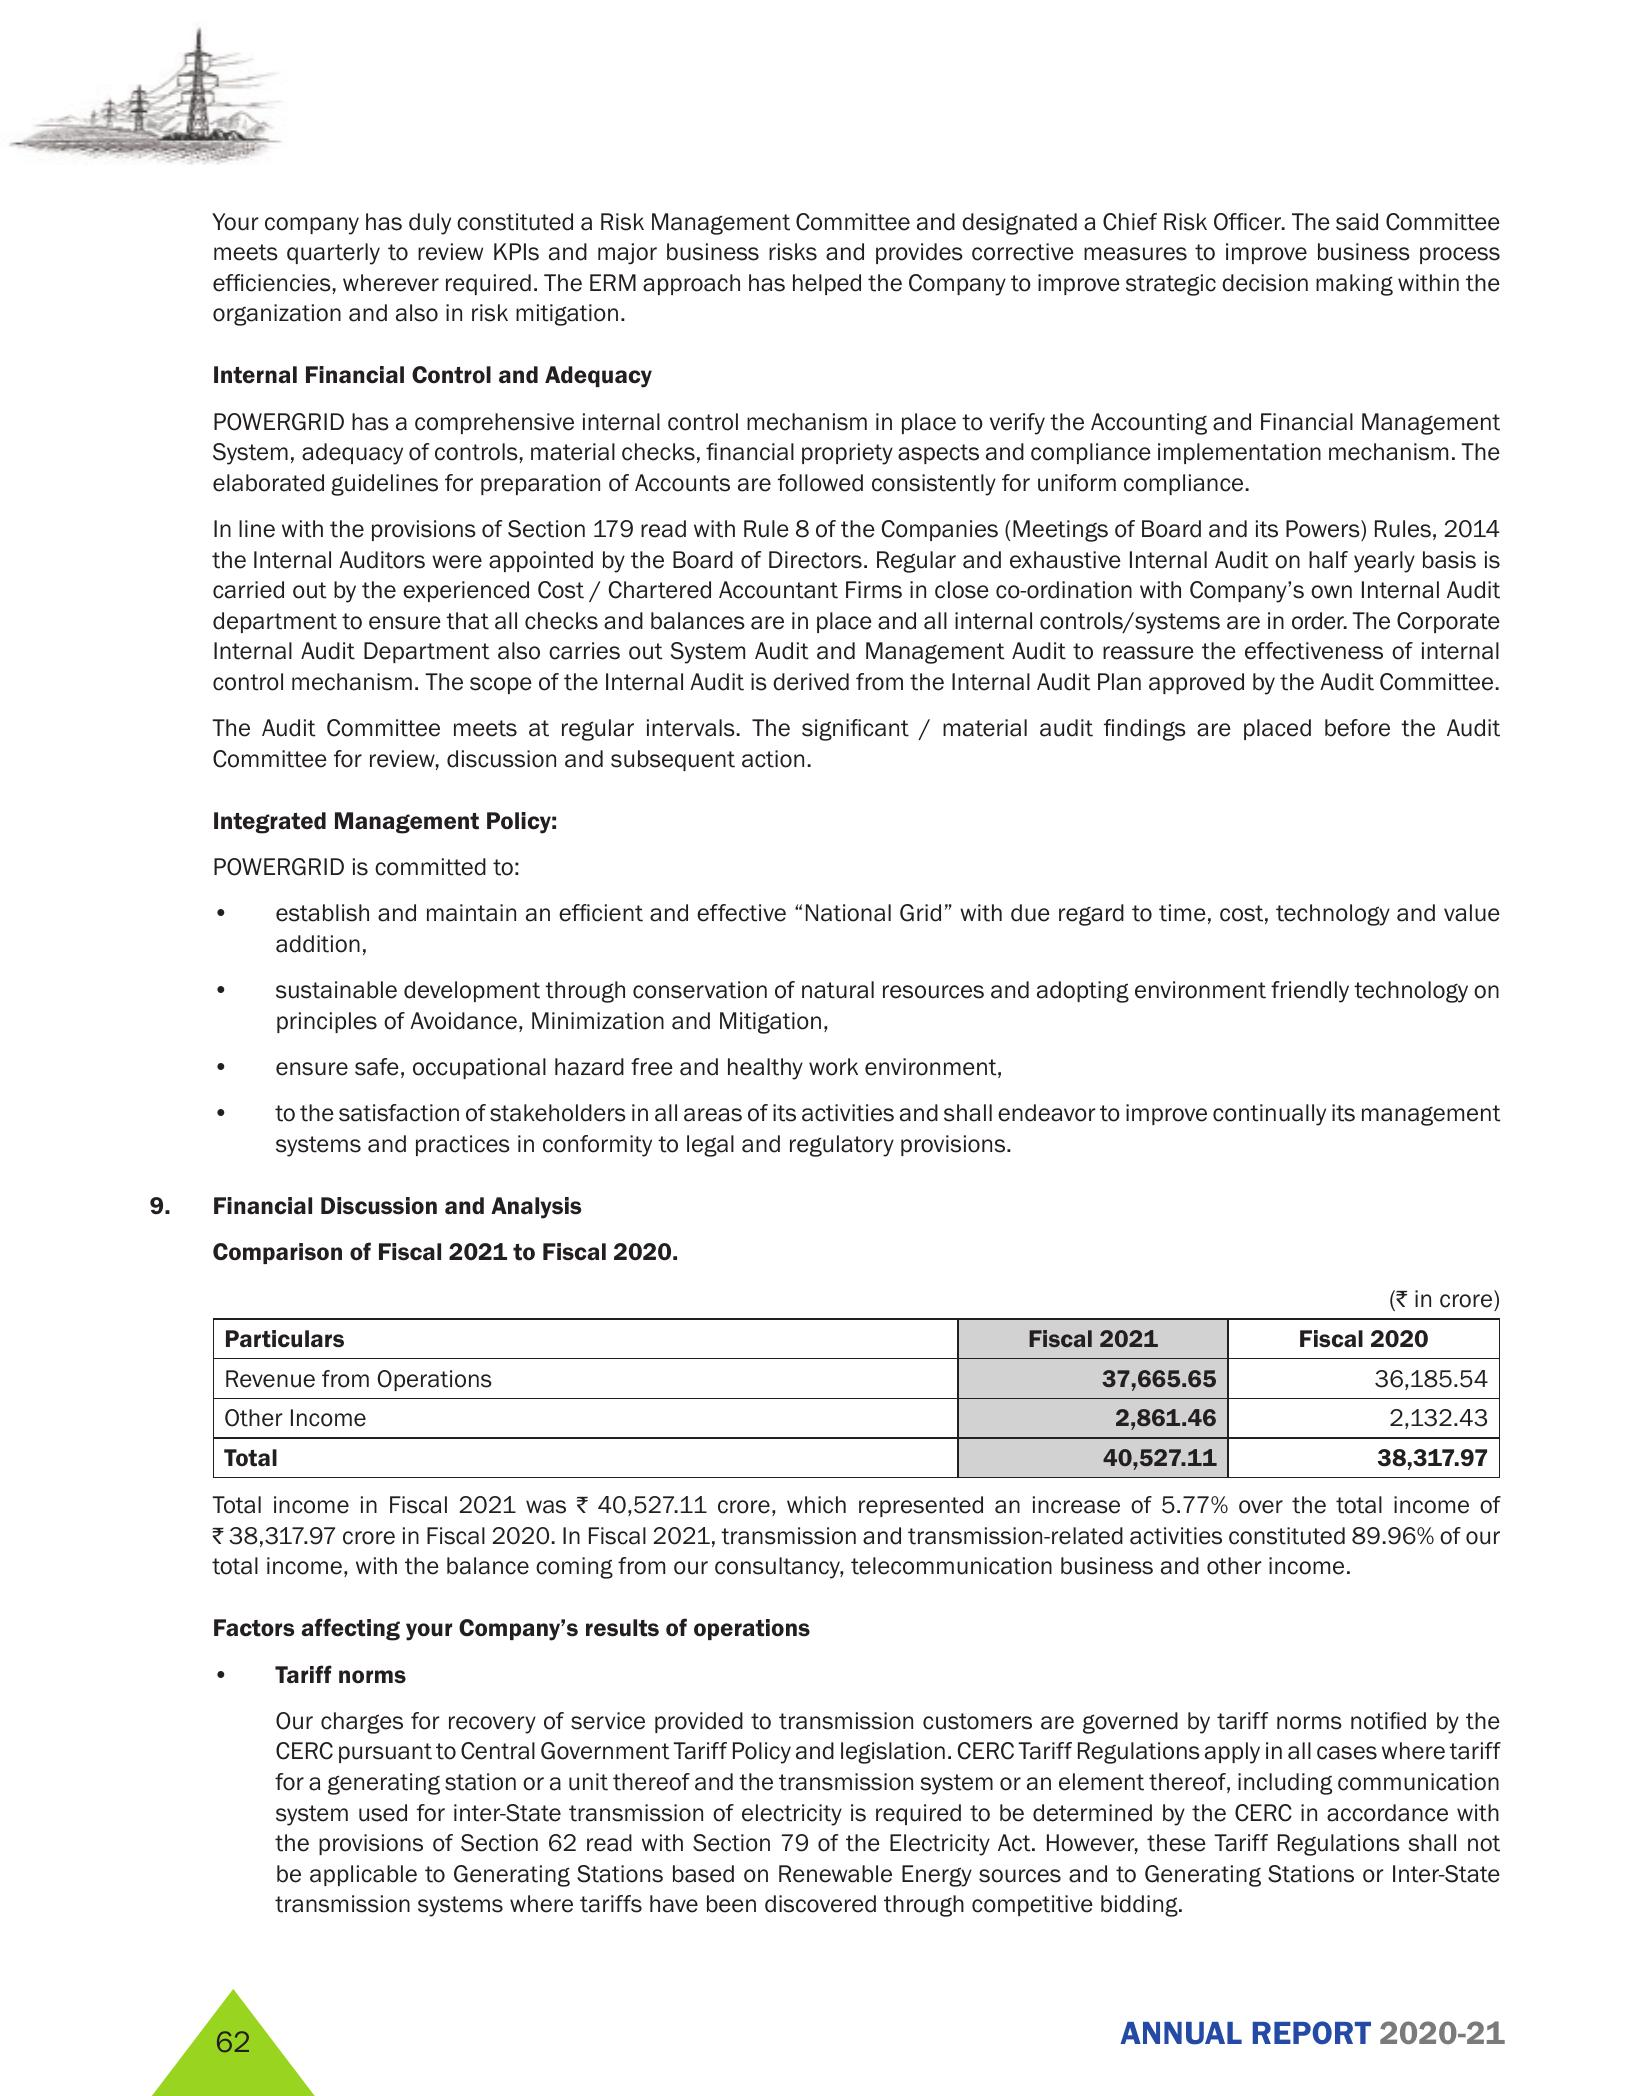Footer: (0, 1962, 1650, 2096)
Header: (0, 0, 1650, 184)
Table: (117, 1283, 1556, 1487)
